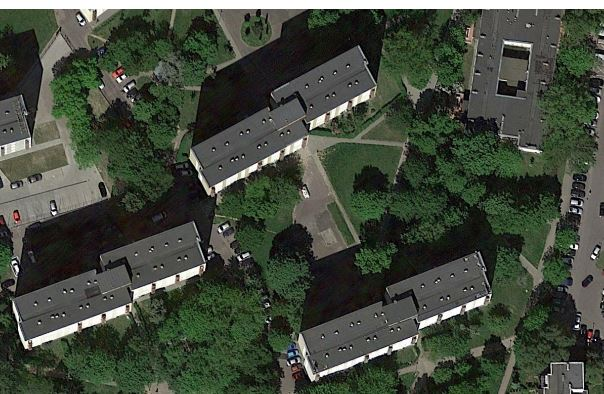block of flats: (184, 41, 382, 199), (291, 244, 489, 387), (8, 219, 210, 353), (464, 7, 568, 157), (1, 88, 35, 159), (537, 356, 590, 394)
